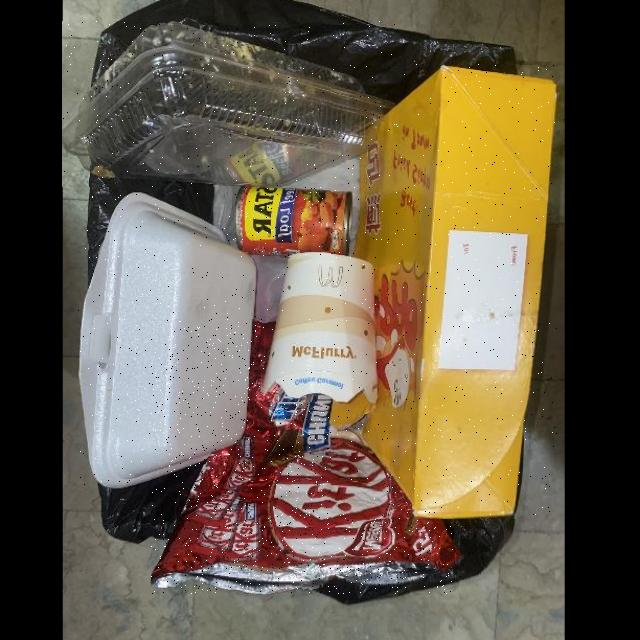metal: (236, 186, 352, 256)
paper: (332, 63, 558, 518), (262, 252, 379, 402)
plastic: (63, 21, 397, 187)
styrofoam: (78, 190, 257, 487)
wrapper: (152, 319, 463, 594)
